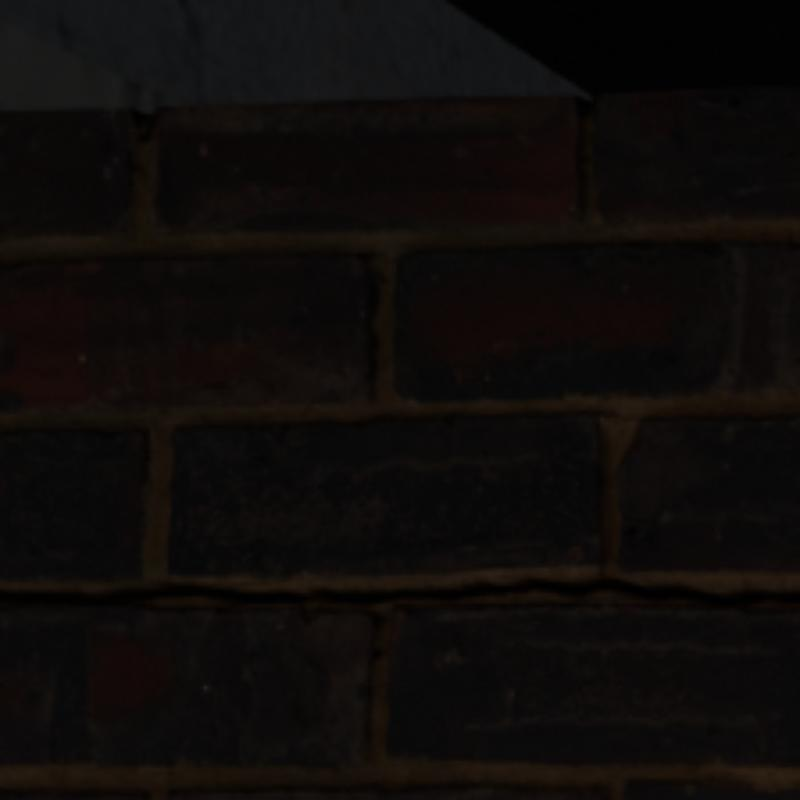pothole: (0, 579, 796, 604)
